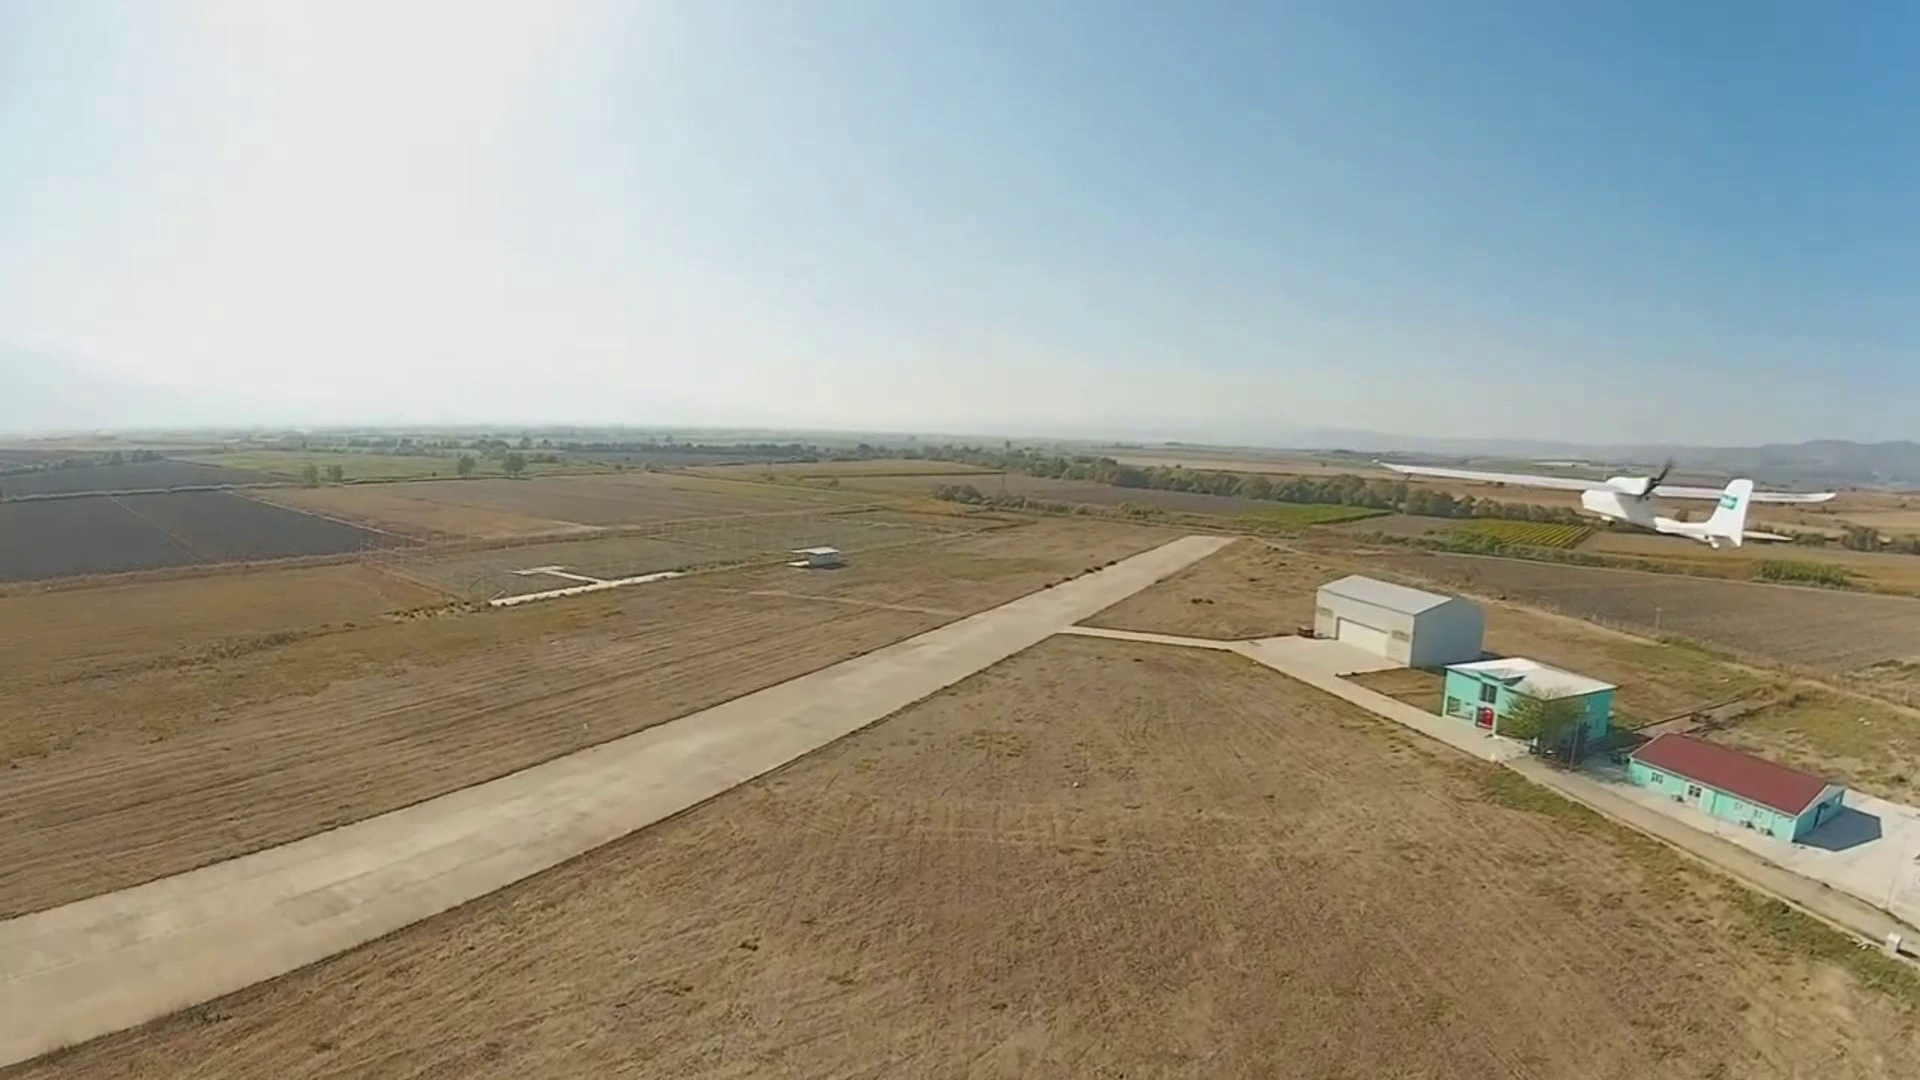airplane: (1575, 468, 1755, 545)
